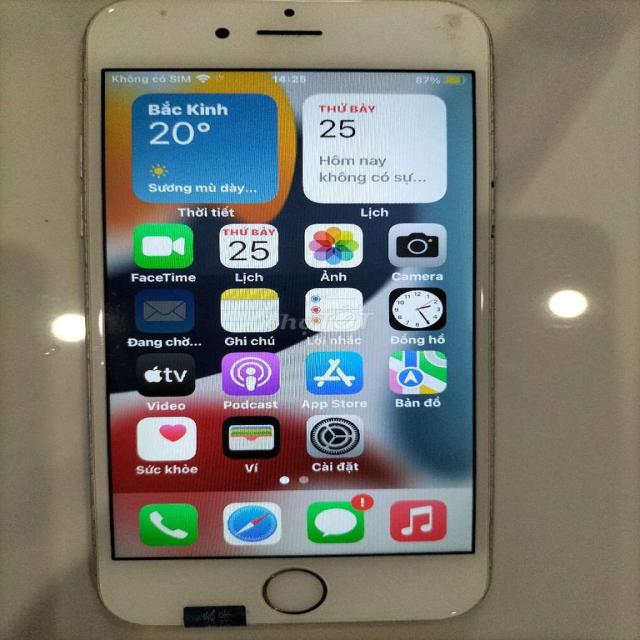scratch: (428, 4, 478, 57), (148, 4, 174, 24)
